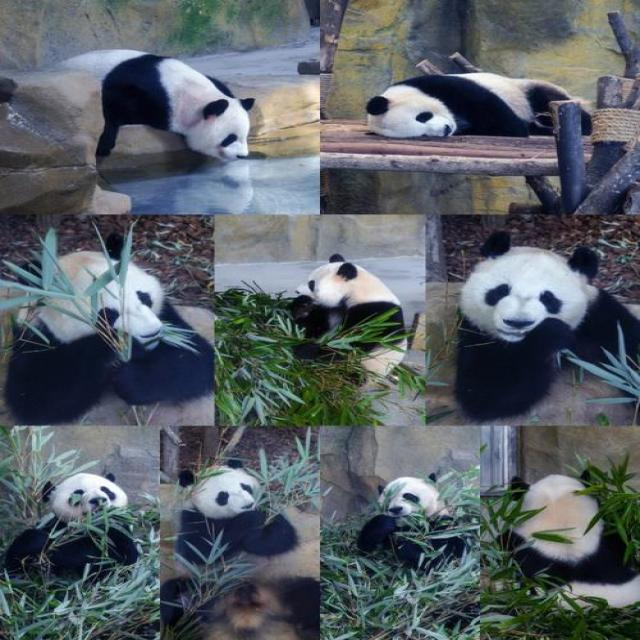panda: (0, 34, 277, 180), (3, 233, 213, 415), (445, 228, 640, 422), (164, 459, 319, 640), (354, 65, 601, 155), (494, 467, 634, 618), (266, 248, 417, 381), (0, 470, 146, 604), (346, 475, 478, 616)
